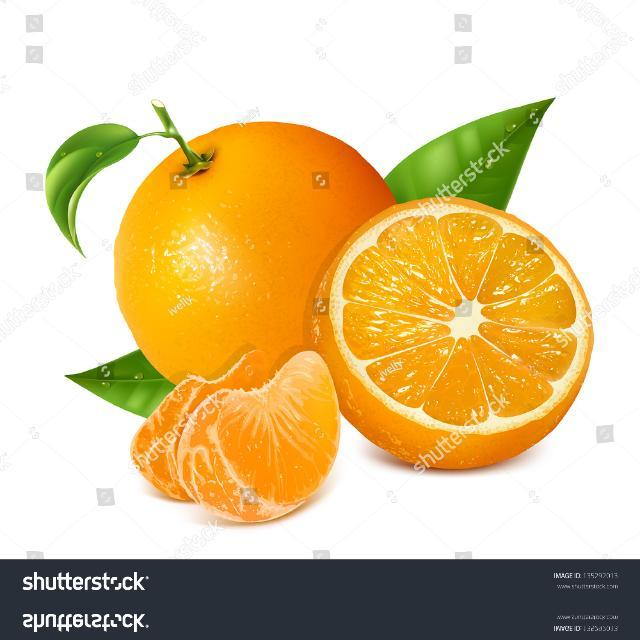Orange: (304, 194, 594, 471), (112, 118, 397, 386), (173, 348, 340, 523), (129, 347, 271, 502)
